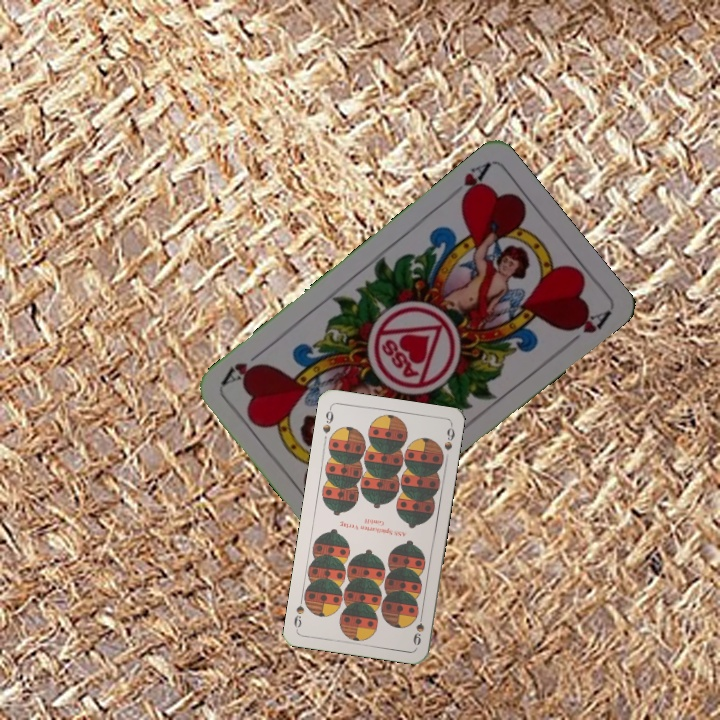HA: (456, 159, 493, 206)
S9: (409, 608, 427, 647), (319, 403, 336, 436)
